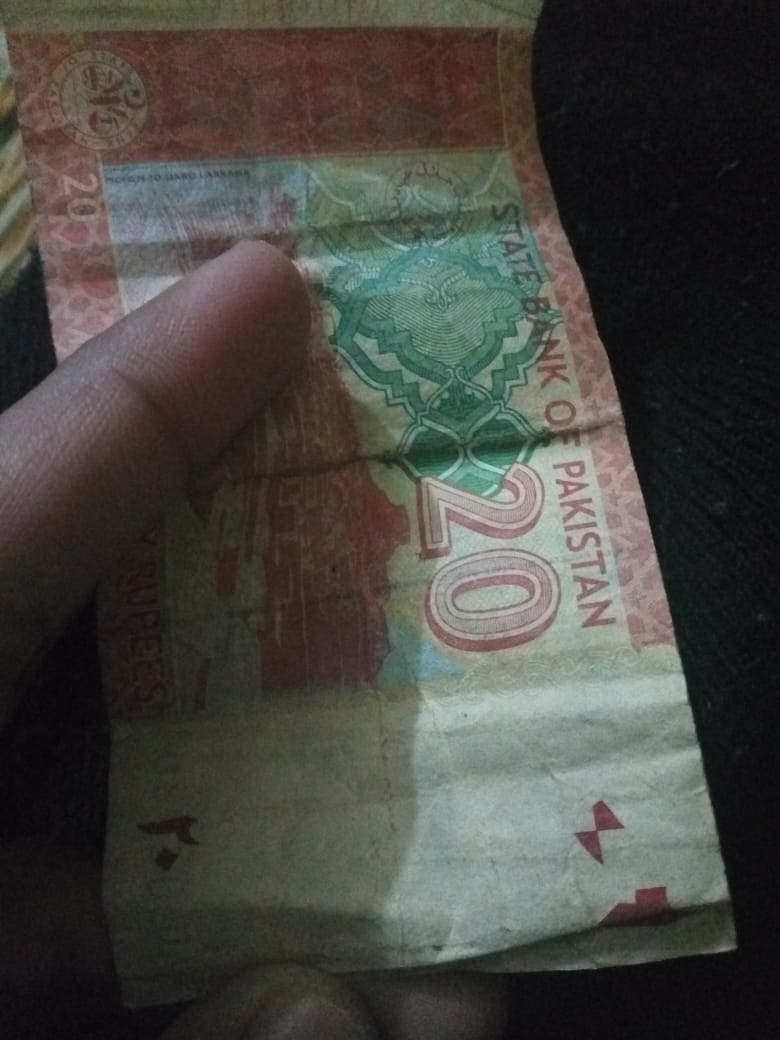20 rupee: (3, 29, 737, 980)
